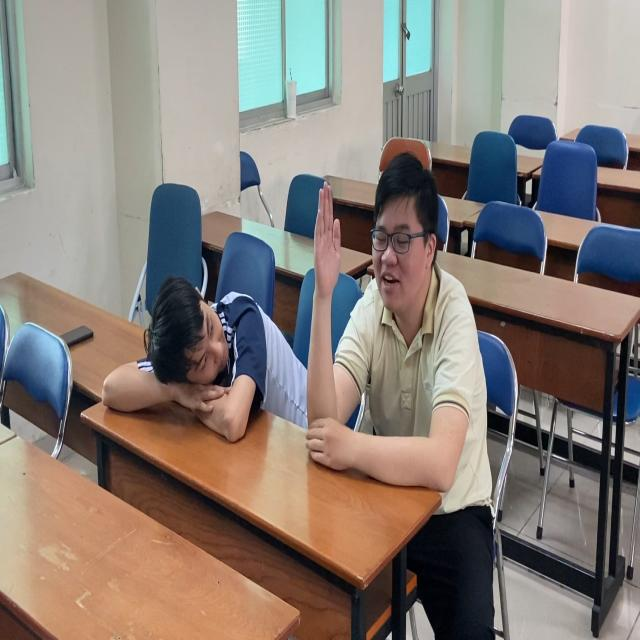raise_hand: (309, 166, 458, 512)
sleep: (103, 276, 303, 441)
